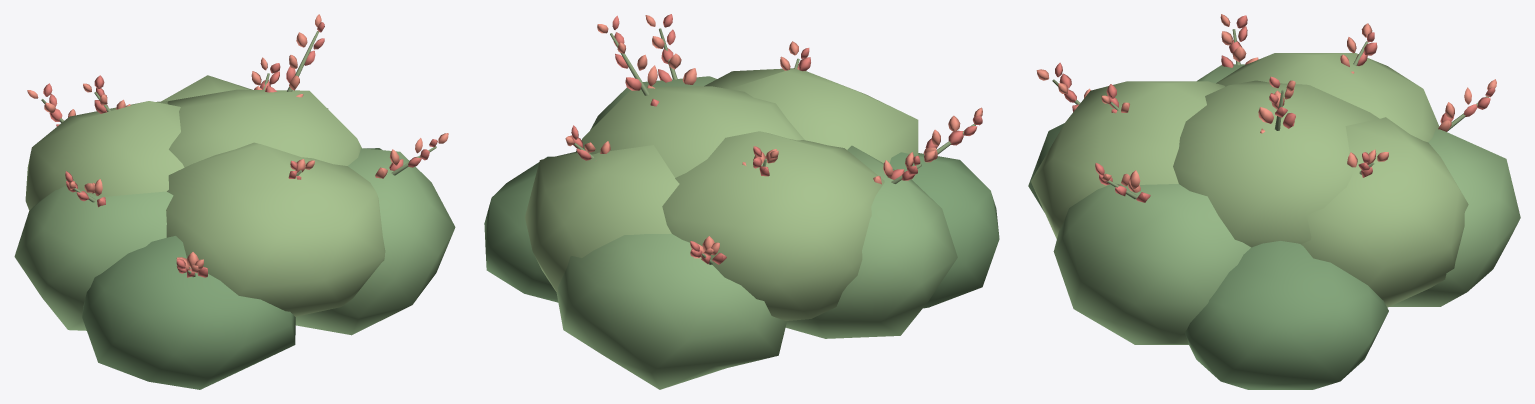
The model's file is ceibo_bush_0.glb.
The picture shows the model from 3 angles, left to right: view 1: azimuth 30°, elevation 25°; view 2: azimuth 150°, elevation 25°; view 3: azimuth 270°, elevation 25°; orthographic projection. The views are drawn at different scales.
Parts seen in each view (by area): view 1: CeiboLeafL, CeiboLeafM, CeiboLeafD, CeiboFlower, CeiboPetal, CeiboWood; view 2: CeiboLeafL, CeiboLeafM, CeiboLeafD, CeiboFlower, CeiboPetal, CeiboWood; view 3: CeiboLeafL, CeiboLeafM, CeiboLeafD, CeiboFlower, CeiboPetal, CeiboWood.
Boxes of the visible parts, x1,y1,x2,y2 form: CeiboLeafL: (25,75,385,316); CeiboLeafM: (14,148,455,335); CeiboLeafD: (82,148,382,389); CeiboFlower: (43,22,437,277); CeiboPetal: (27,14,448,272); CeiboWood: (41,31,436,277); CeiboLeafL: (525,68,918,320); CeiboLeafM: (556,76,957,389); CeiboLeafD: (484,152,999,308); CeiboFlower: (571,14,982,264); CeiboPetal: (565,15,982,258); CeiboWood: (574,28,975,264); CeiboLeafL: (1030,53,1468,307); CeiboLeafM: (1053,64,1520,344); CeiboLeafD: (1028,123,1388,389); CeiboFlower: (1055,15,1495,202); CeiboPetal: (1036,14,1496,192); CeiboWood: (1052,29,1488,199).
Size of the model in its own units: 1.84 by 1.19 by 1.81.
